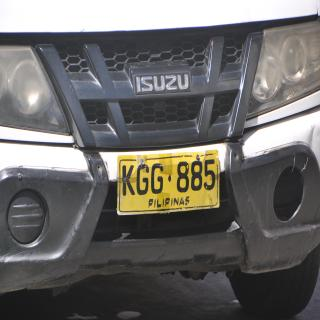license: (118, 151, 220, 216)
